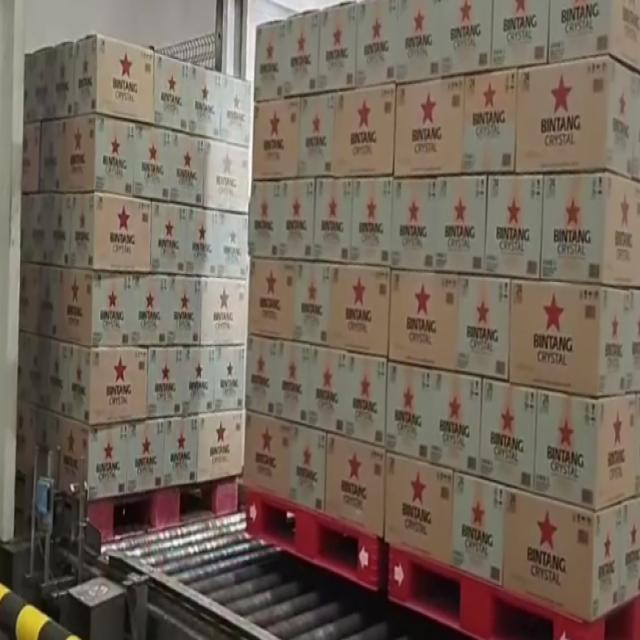pallet: (382, 0, 640, 640), (18, 11, 245, 551), (237, 0, 396, 597)
